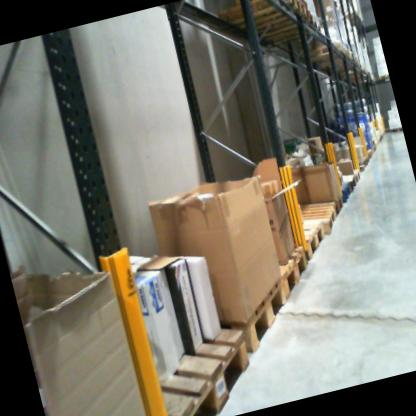pallet: (141, 307, 263, 416), (194, 271, 304, 373), (257, 242, 318, 313), (242, 7, 328, 56), (271, 214, 336, 278), (271, 199, 343, 250), (212, 0, 307, 38), (233, 0, 315, 40), (300, 38, 346, 69), (323, 192, 348, 219), (332, 181, 354, 207), (339, 174, 361, 199), (343, 168, 363, 183), (389, 125, 402, 136), (378, 71, 389, 81)
